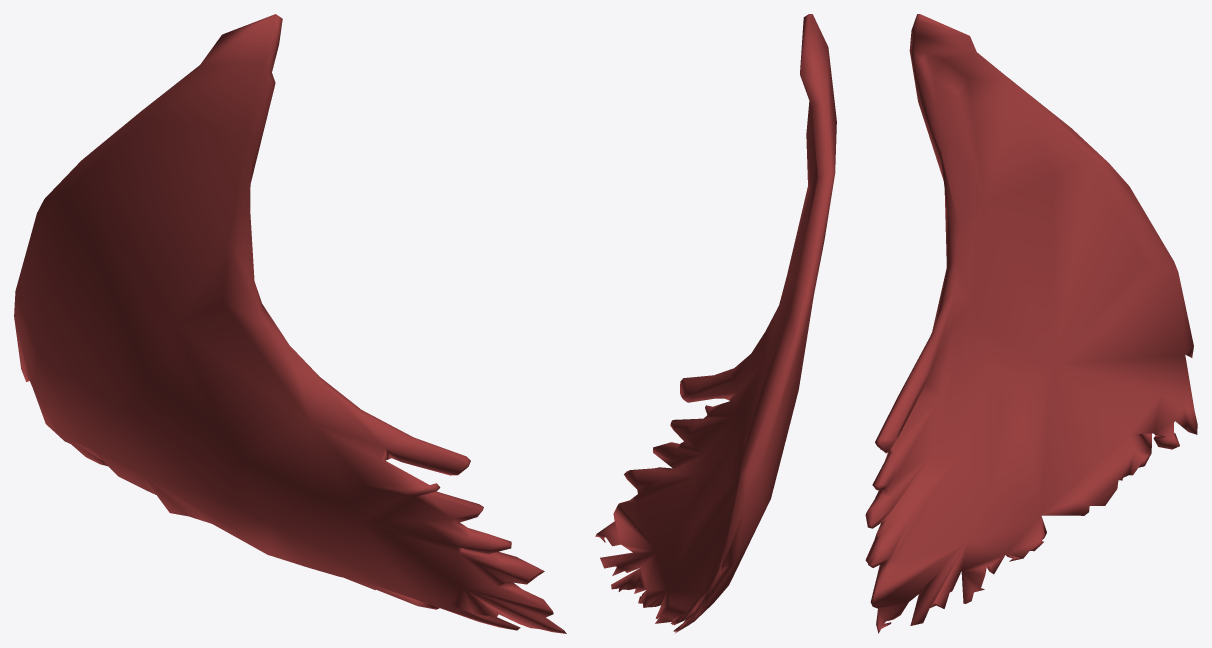
Rendered from depressor-anguli-oris-r.glb.
3 renders of one model, left to right at view 1: azimuth 30°, elevation 25°; view 2: azimuth 150°, elevation 25°; view 3: azimuth 270°, elevation 25°, orthographic. The views are drawn at different scales.
Visible parts, largest first — view 1: Depressor anguli oris.r; view 2: Depressor anguli oris.r; view 3: Depressor anguli oris.r.
Boxes of the visible parts, x1,y1,x2,y2 form: Depressor anguli oris.r: (14, 14, 566, 633); Depressor anguli oris.r: (595, 14, 836, 633); Depressor anguli oris.r: (865, 14, 1197, 633).
Size of the model in its own units: 0.0243 by 0.0417 by 0.024.
